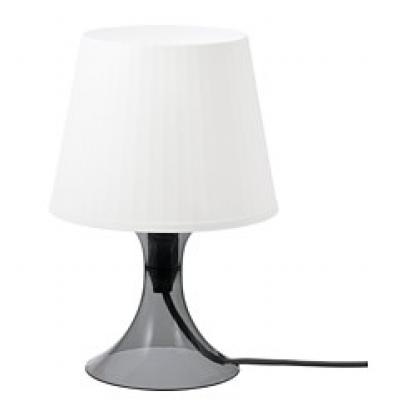Lamp: (32, 13, 294, 398)
